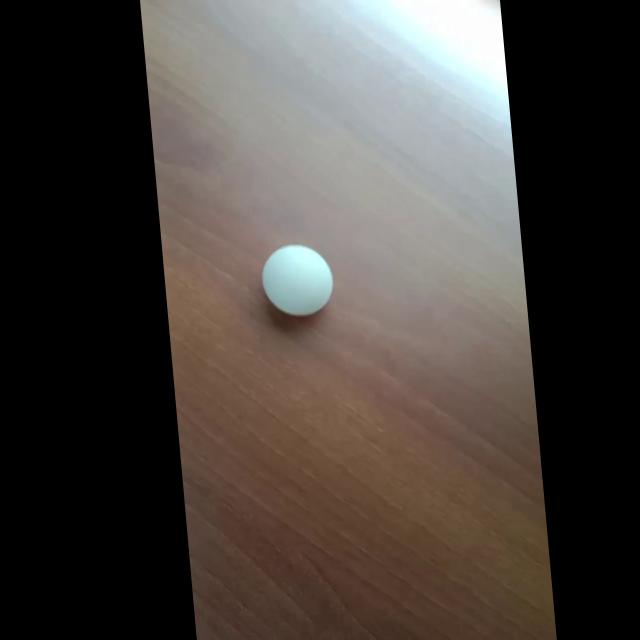white ball: (258, 243, 336, 317)
